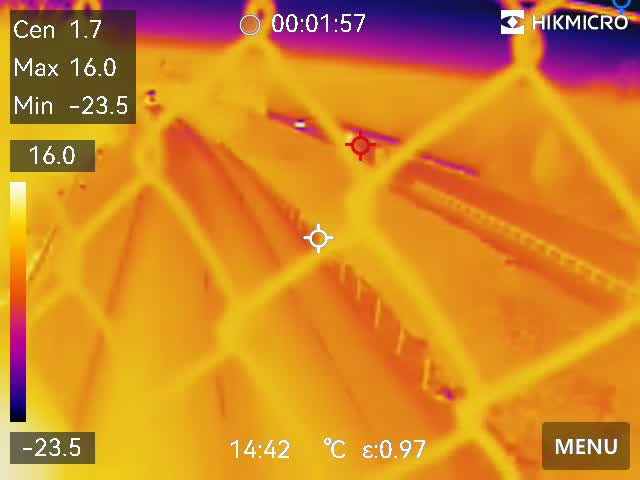vehicle: (290, 117, 308, 130)
